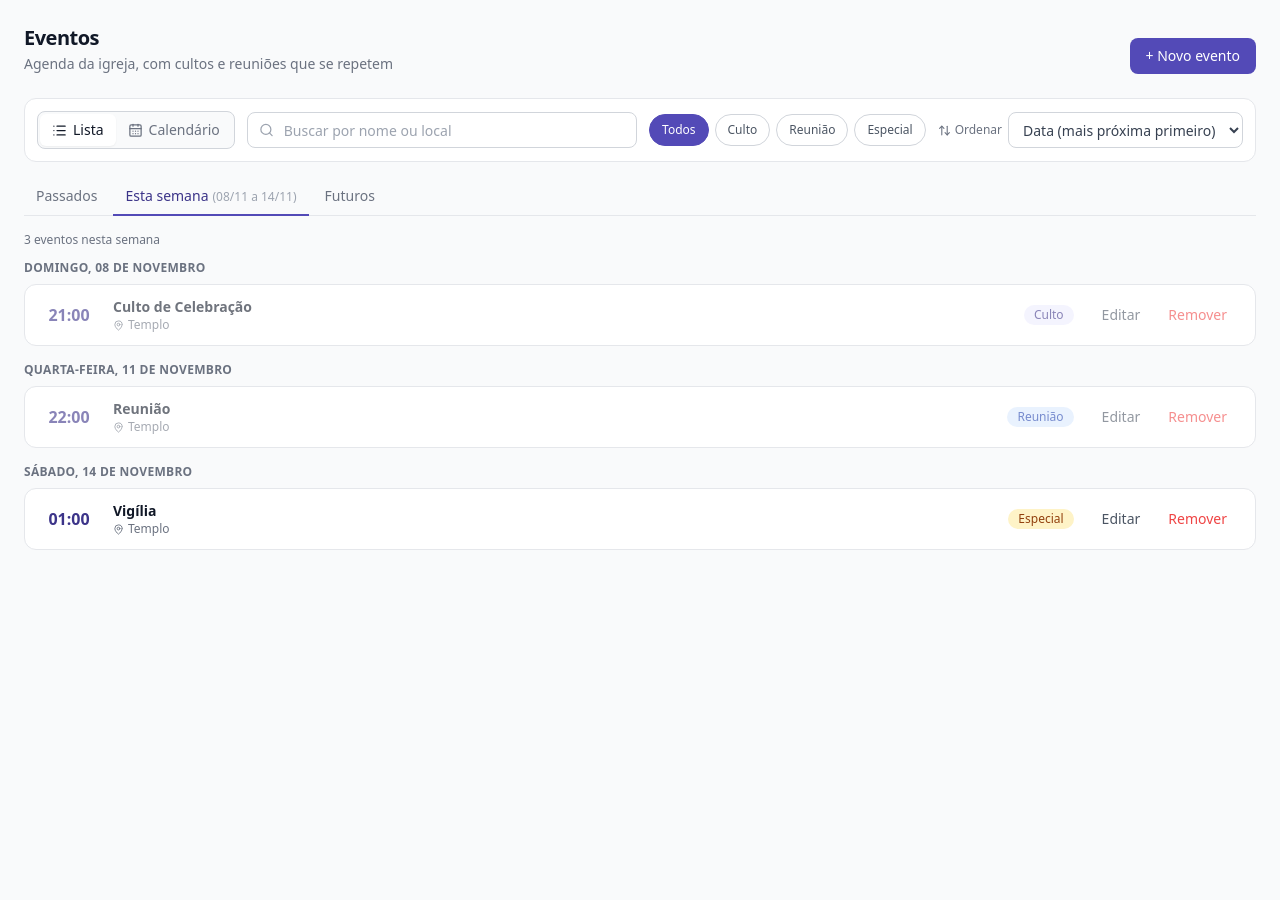
Test: EventosPage › a visão de calendário busca o mês inteiro
Click the button "Calendário". click: (174, 130)
box: x1=116 y1=114 x2=232 y2=146
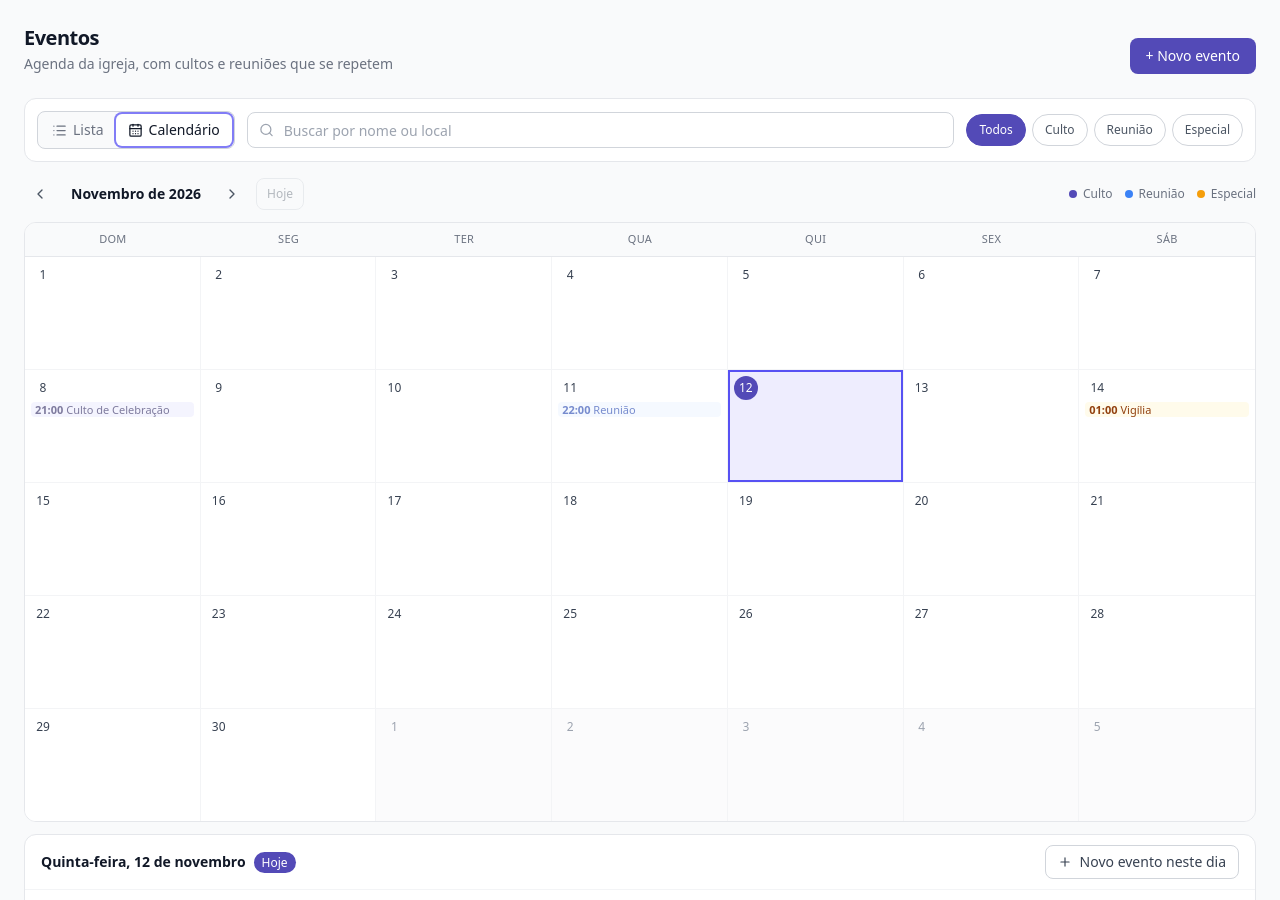
Now the heading "Novembro de 2026" is shown, box x1=60 y1=184 x2=212 y2=204
